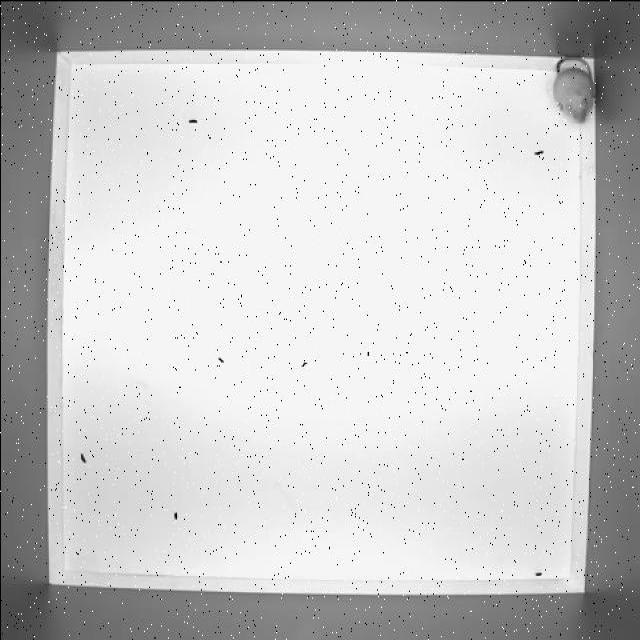rat: (548, 53, 598, 128)
